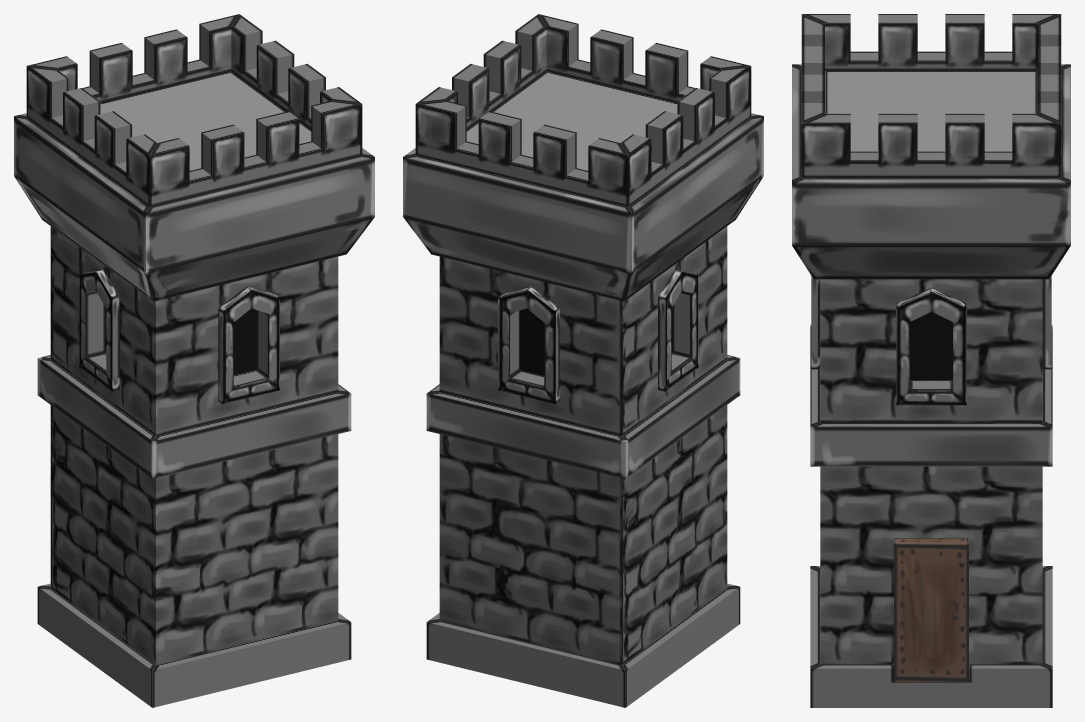
Rendered from Tower2.fbx.
3 renders of one model, left to right at view 1: azimuth 30°, elevation 25°; view 2: azimuth 150°, elevation 25°; view 3: azimuth 270°, elevation 25°, orthographic. The views are drawn at different scales.
Visible parts, largest first — view 1: Куб; view 2: Куб; view 3: Куб.
Boxes of the visible parts, left/top/right/bottom form: Куб: left=14, top=14, right=374, bottom=707; Куб: left=403, top=14, right=763, bottom=707; Куб: left=792, top=14, right=1070, bottom=707.
Bounding box in the file's own units: 292 × 678 × 292.
1 material, 1 textured.
